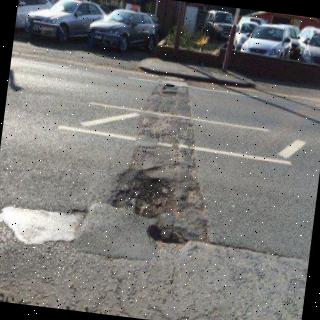pothole: (111, 170, 177, 219), (146, 225, 186, 248)
